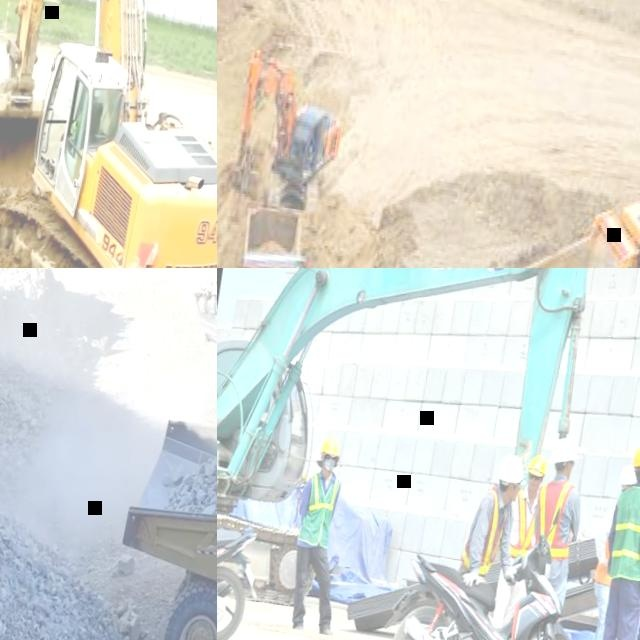Hardhat: (550, 435, 581, 466), (497, 454, 527, 482), (528, 454, 549, 478), (620, 466, 639, 489), (320, 437, 341, 457), (635, 444, 640, 468)
Mask: (323, 460, 337, 473)
NO-Mask: (506, 489, 520, 503), (527, 479, 539, 493), (565, 470, 574, 479)
Person: (509, 433, 594, 640), (438, 449, 528, 640), (283, 433, 365, 639), (485, 450, 549, 640), (574, 463, 640, 640), (584, 440, 640, 640), (68, 97, 91, 155)
Safety Vest: (458, 483, 513, 580), (531, 477, 582, 561), (607, 482, 640, 581), (298, 472, 341, 546), (506, 484, 545, 561), (593, 536, 618, 588), (73, 111, 82, 133)
machinery: (217, 268, 608, 640), (0, 0, 217, 268), (96, 366, 217, 640), (225, 43, 353, 213), (466, 168, 640, 268), (217, 196, 324, 268)
